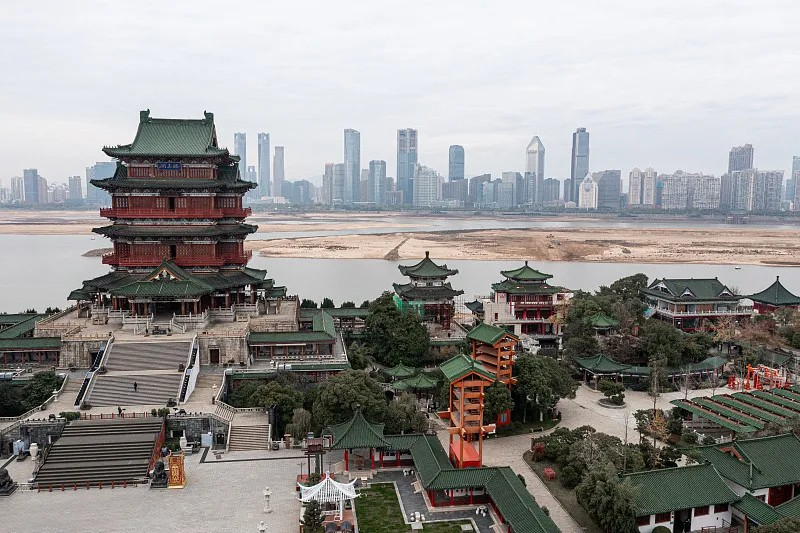Teng: (67, 109, 287, 314)
